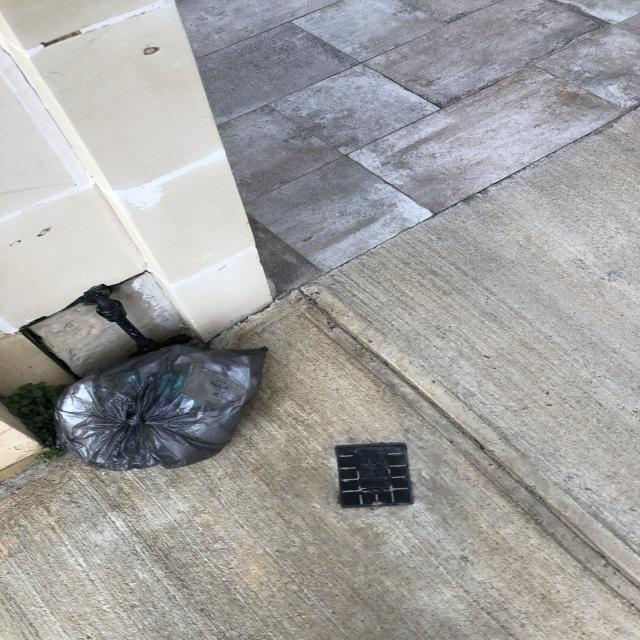Mixed Waste -Black Bag-: (49, 348, 267, 473)
